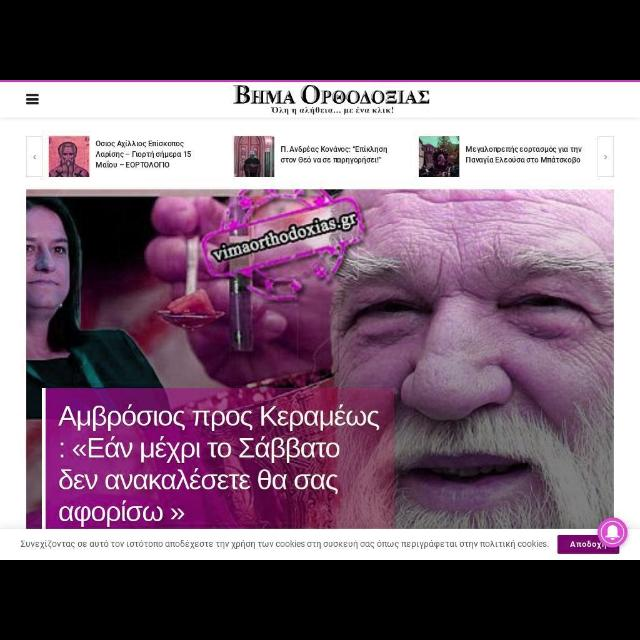button: (598, 136, 614, 178), (27, 136, 43, 178)
icon: (598, 518, 628, 548), (26, 93, 40, 105), (602, 154, 608, 162), (32, 154, 38, 160)
image: (26, 190, 614, 528), (234, 84, 431, 116), (418, 136, 459, 178), (233, 136, 274, 178), (50, 136, 90, 178)
text: (58, 404, 380, 528), (20, 540, 550, 550), (95, 140, 191, 168), (466, 146, 582, 164), (280, 146, 388, 164), (570, 542, 608, 550)
textbutton: (558, 536, 620, 554)
toolbar: (1, 80, 640, 118)
